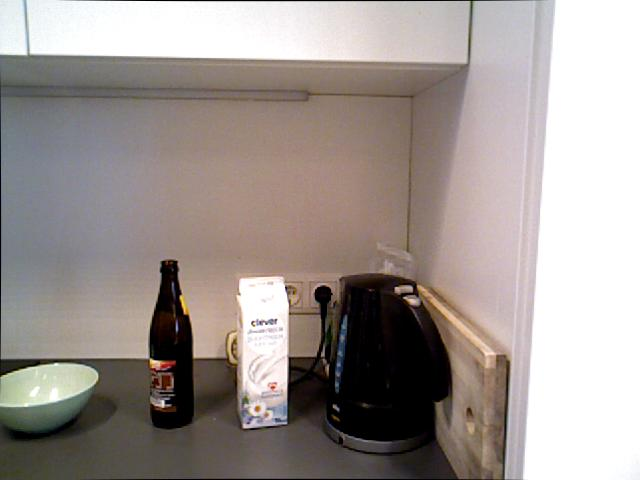bottle: (232, 272, 294, 430), (147, 258, 194, 429)
bowl: (0, 361, 99, 433)
clock: (225, 329, 245, 366)
